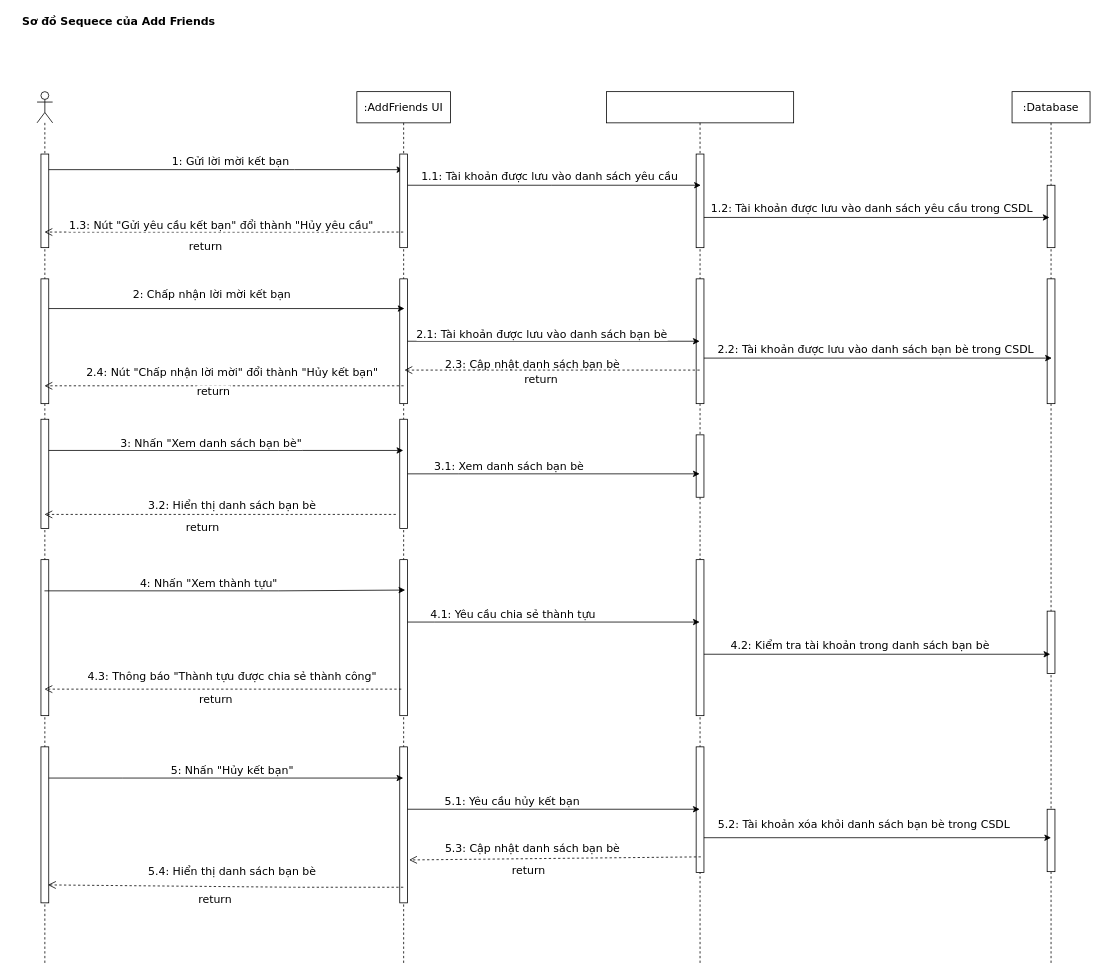
Image size: 1104x979. Some labels were removed from this diagram. The centre of each missing label's shape, as x and y in pixels:
:User: (x=44, y=528)
AddFriends:AddFriendsController: (x=700, y=528)
